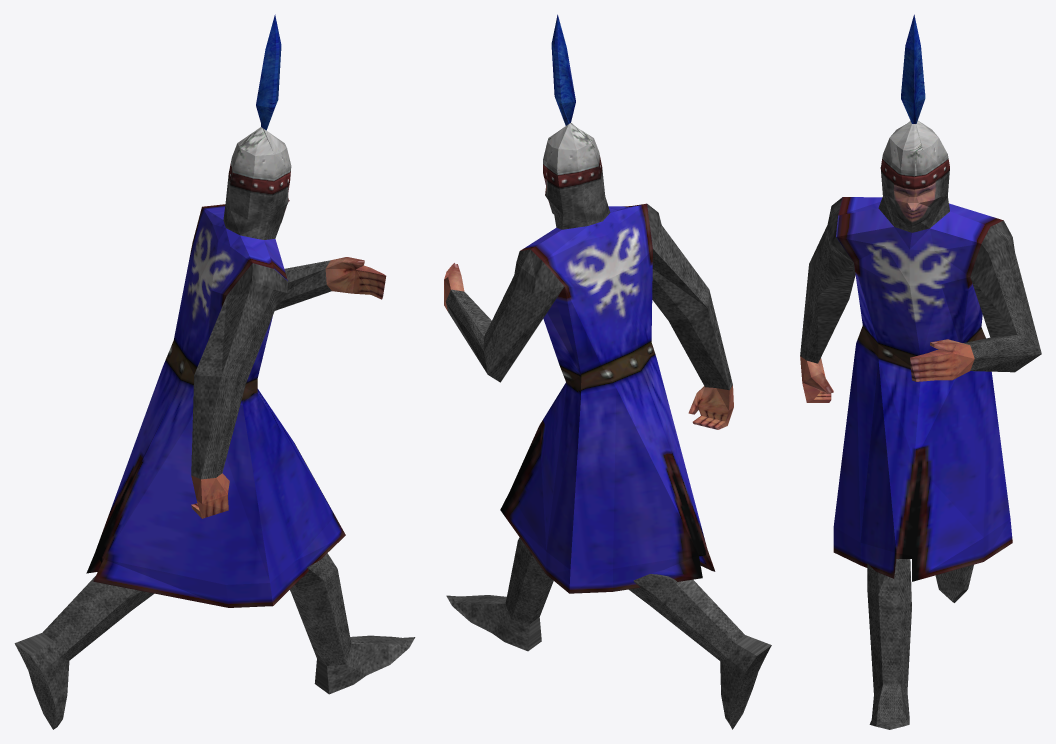
Rendered from guard_run0.obj.
3 views of the same model, side by side, from view 1: azimuth 30°, elevation 25°; view 2: azimuth 150°, elevation 25°; view 3: azimuth 270°, elevation 25° (orthographic). The views are drawn at different scales.
Parts seen in each view (by area): view 1: Object_1; view 2: Object_1; view 3: Object_1.
Part boxes in pixels (x1,y1,x2,y2): Object_1: (14,14,415,729); Object_1: (444,14,771,729); Object_1: (800,14,1041,729).
Bounding box in the file's own units: 1.21 × 2.18 × 0.6944.
1 material, 1 textured.
